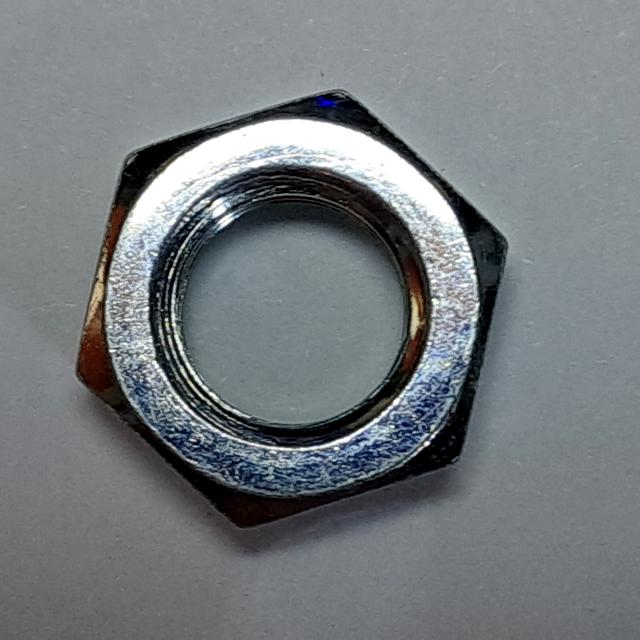Excellent: (53, 72, 531, 547)
